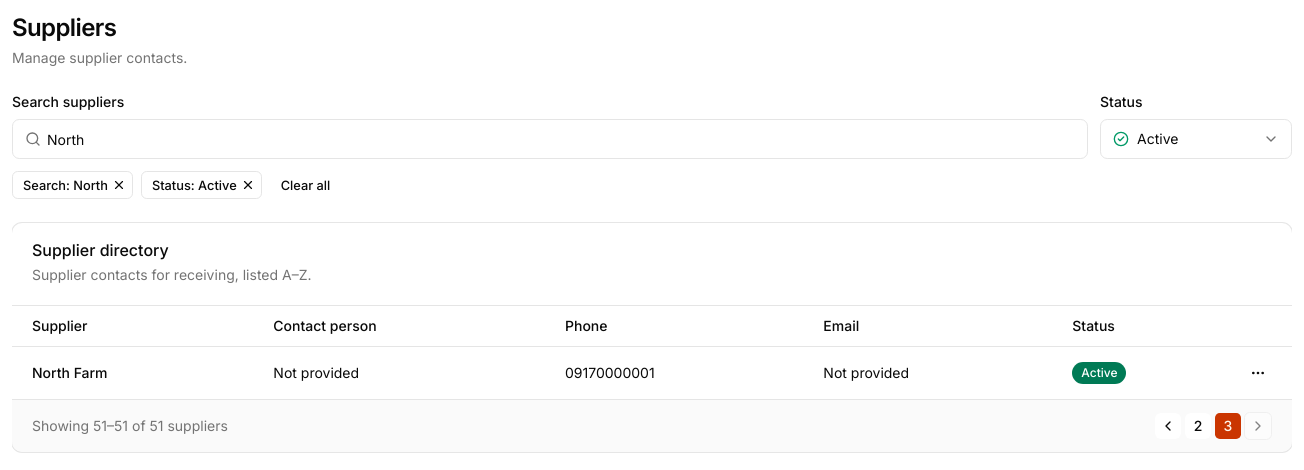
Test: catalog directories › shows labeled search, applied chips, readable contact data and integrated result pagination
The width and height of the screenshot is (1304, 470).
Expected: the heading "Suppliers" is shown, [12,13,116,42]
Expected: the text "09170000001" is shown once, [565,364,655,381]
Click the button named "More actions for North Farm": {"x": 1258, "y": 373} [1244,359,1272,387]
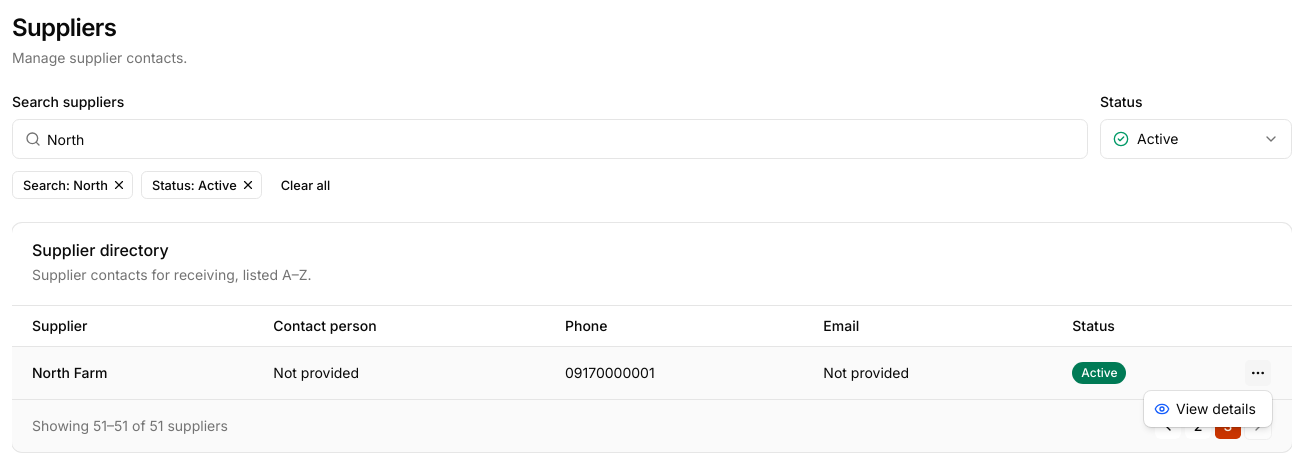
Expected: the menu item "View details" is shown, [1154,400,1256,417]
